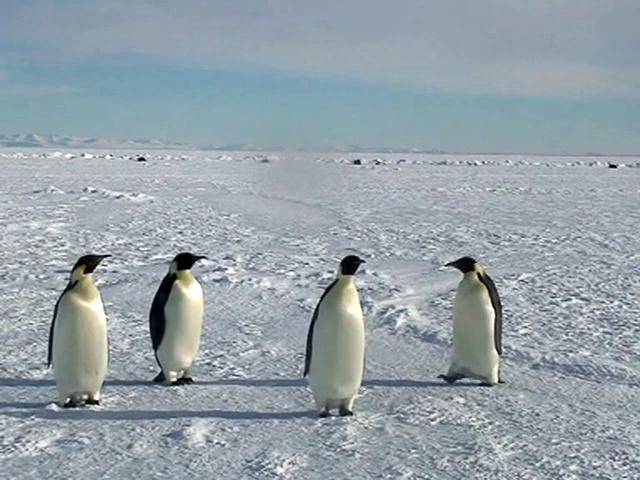animal: (304, 255, 364, 416)
